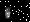person: (6, 8, 12, 20), (16, 10, 21, 19)
